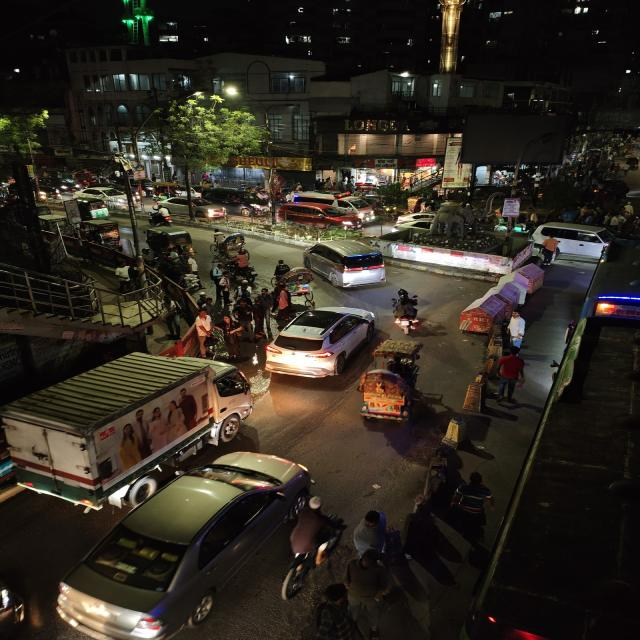car: (55, 453, 327, 640), (261, 304, 379, 383), (299, 238, 392, 290), (532, 221, 624, 261), (281, 200, 359, 230), (316, 192, 374, 222), (166, 193, 224, 220), (220, 188, 262, 218), (394, 214, 426, 235)
cng: (148, 227, 193, 251), (80, 196, 110, 219)
motorcycle: (389, 287, 426, 335), (147, 205, 176, 227)
pedestrian: (493, 350, 528, 403), (502, 311, 529, 351), (540, 232, 564, 268)
rickshaw: (352, 340, 431, 427), (209, 230, 254, 270), (280, 266, 321, 307), (456, 305, 498, 345), (88, 220, 120, 248)
truck: (1, 348, 260, 510)
